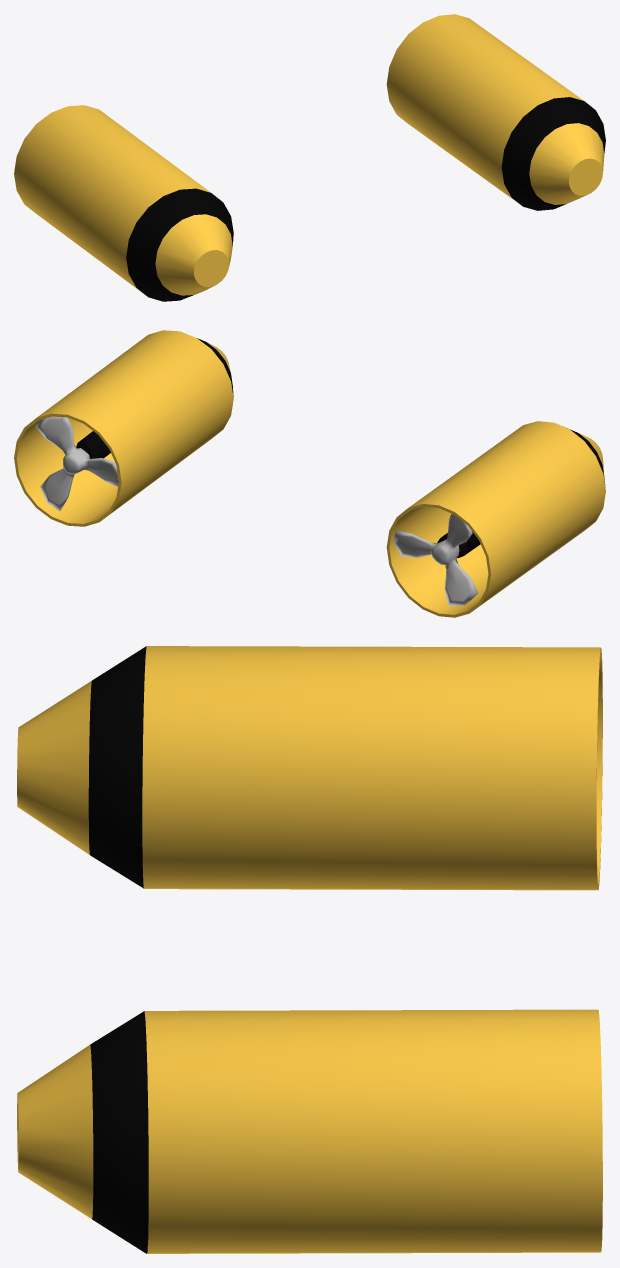
The model's file is tourbine.fbx.
The picture shows the model from 3 angles, top to bottom: view 1: azimuth 30°, elevation 25°; view 2: azimuth 150°, elevation 25°; view 3: azimuth 270°, elevation 25°; orthographic projection. The views are drawn at different scales.
Parts seen in each view (by area): view 1: tourbine; view 2: tourbine; view 3: tourbine.
Boxes of the visible parts, box(x1,y1,x2,y2) form: tourbine: box(14, 14, 605, 301); tourbine: box(14, 330, 605, 617); tourbine: box(17, 646, 602, 1253).
Size of the model in its own units: 191 by 42.12 by 101.
